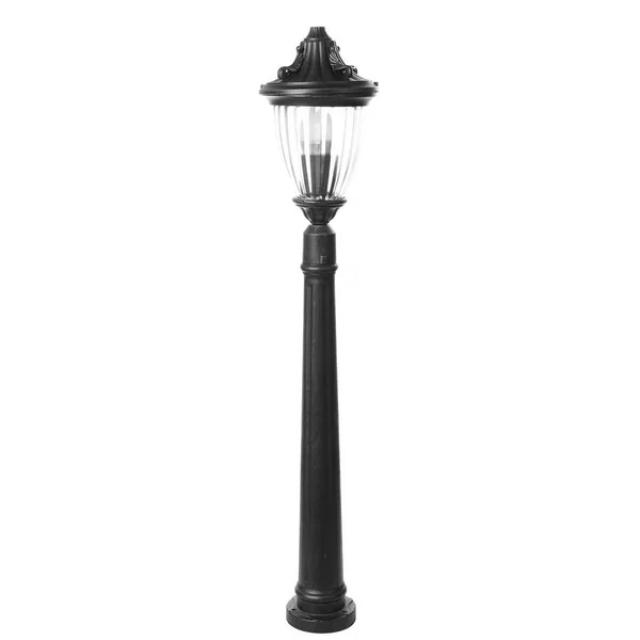Pole: (260, 26, 378, 634)
